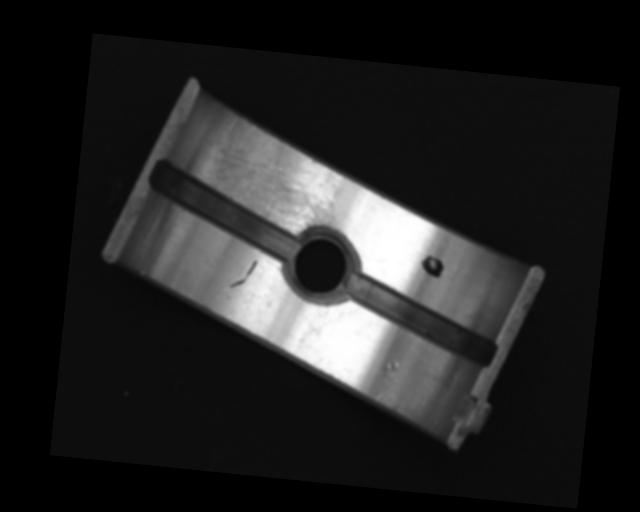blot: (419, 253, 445, 278)
bruise: (377, 357, 404, 384)
gap: (142, 159, 308, 263), (342, 272, 502, 365)
hole: (282, 225, 360, 304)
nick: (228, 255, 258, 291)
scratch: (198, 112, 351, 243)
